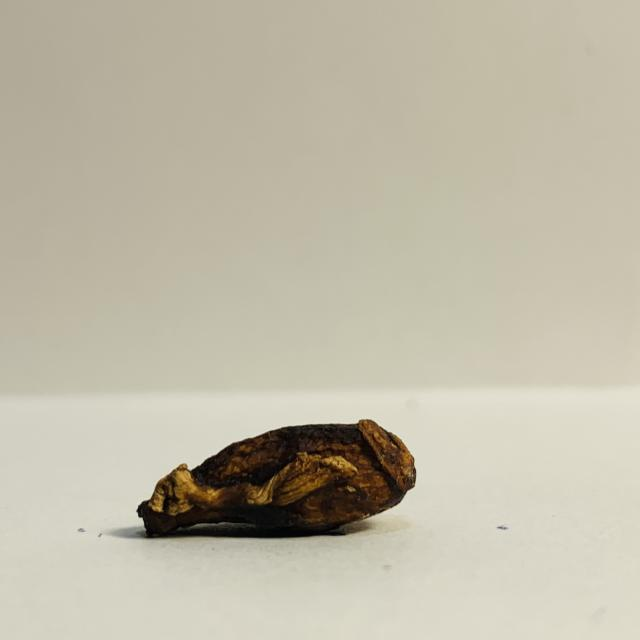Flat_cocoabeans: (92, 388, 478, 570)
